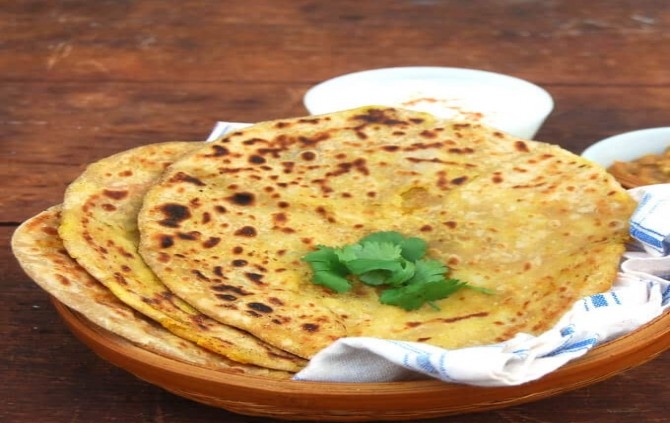aloo_paratha: (13, 108, 638, 378)
